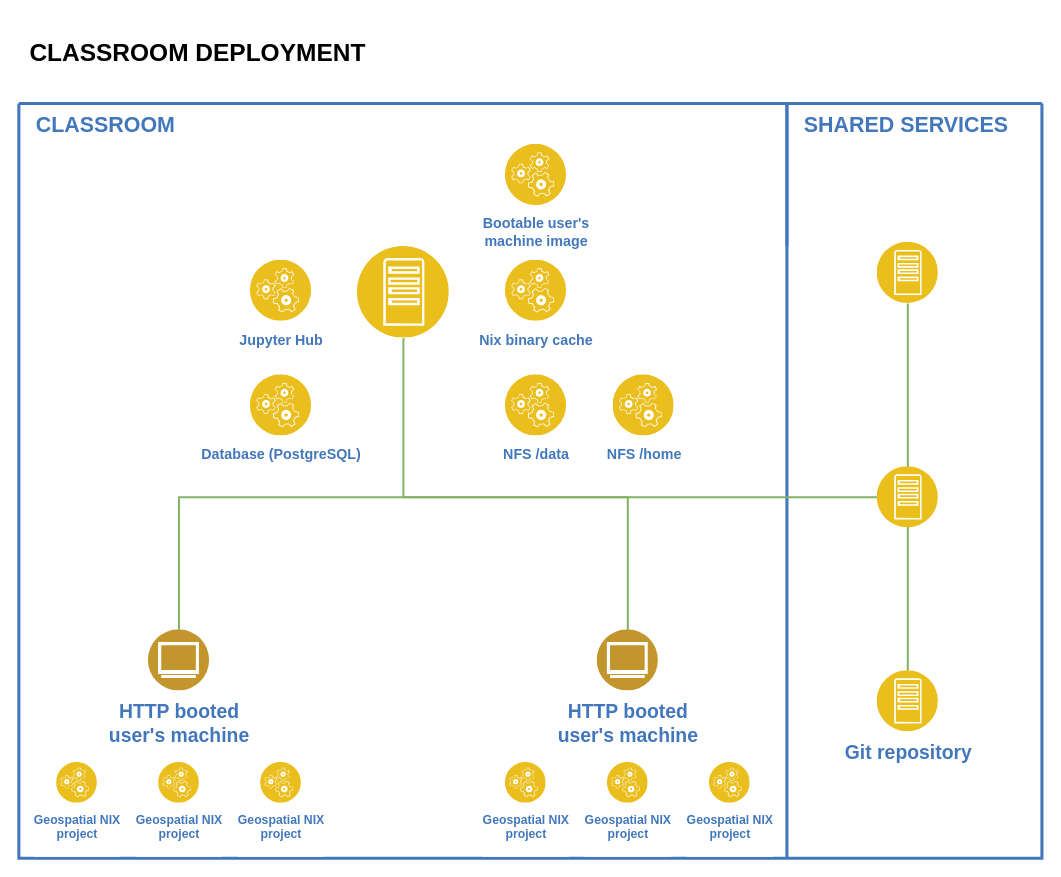
This 1061x877 diagram has some shape labels left out. Each missing label, with the centre of its shape:
"AD / LDAP" goes at point (907, 496).
"DHCP server with HTTP boot support" goes at point (907, 272).
"Master server" goes at point (403, 292).
